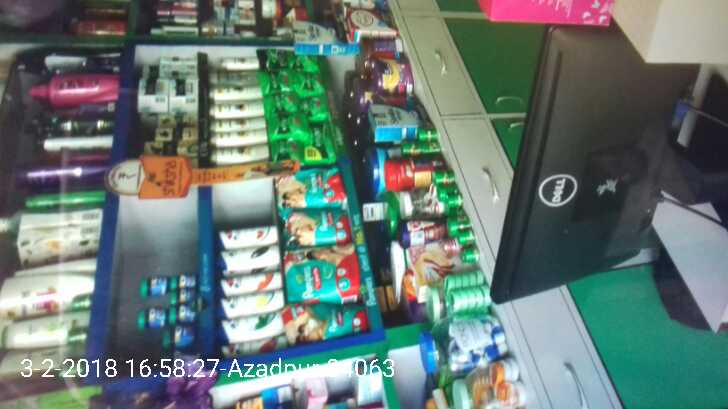vicks: (132, 269, 199, 351)
